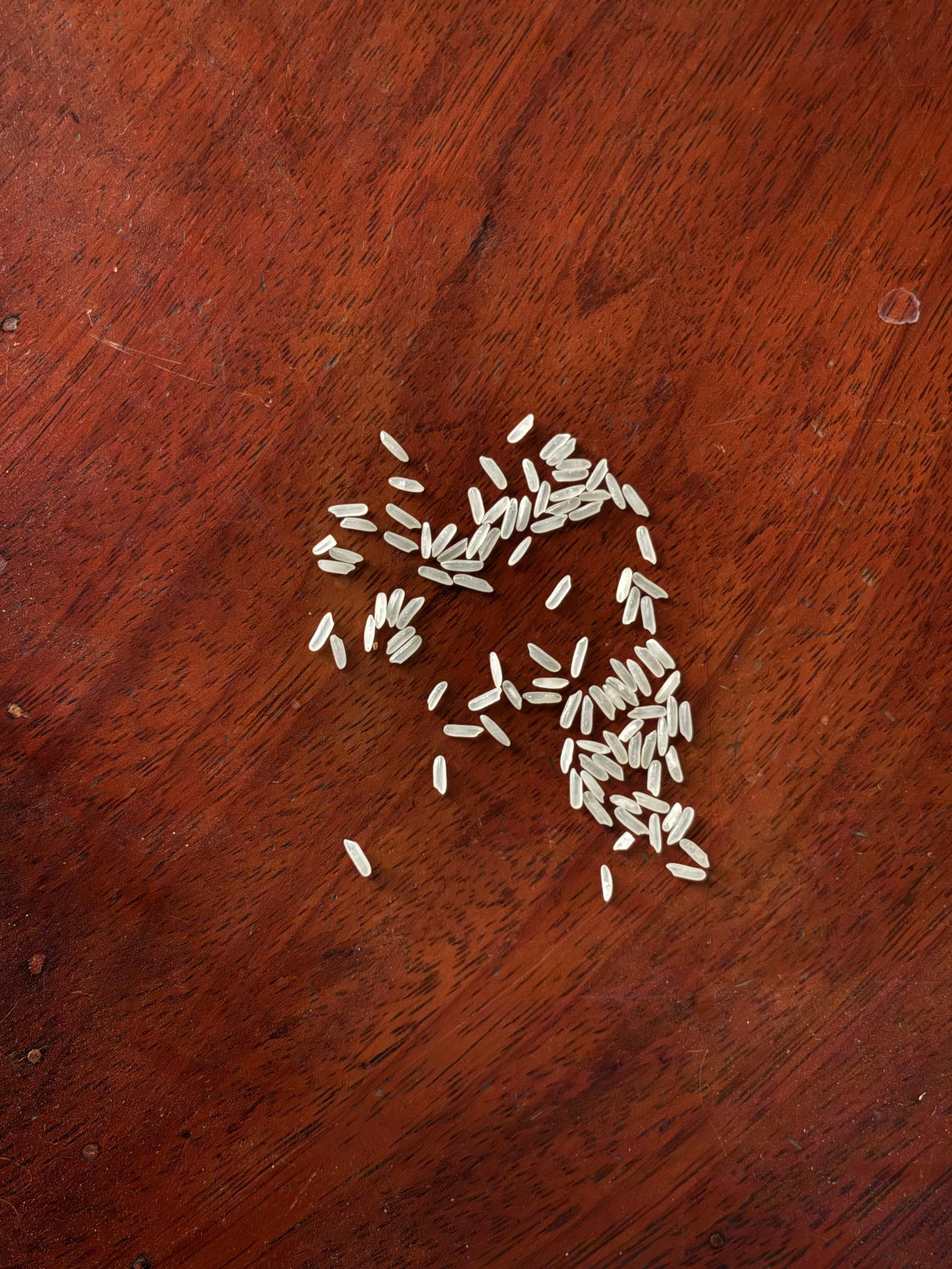Rice-th-y-nh: (344, 839, 371, 876), (527, 643, 561, 672), (583, 792, 612, 826), (480, 715, 510, 746), (309, 614, 334, 651), (668, 810, 694, 845), (633, 573, 668, 599), (590, 685, 616, 720), (635, 646, 664, 677), (607, 677, 638, 706), (396, 597, 424, 629), (480, 457, 508, 489), (610, 659, 637, 692), (680, 839, 710, 868), (628, 659, 652, 695), (546, 576, 572, 609), (389, 637, 422, 663), (603, 730, 628, 764), (466, 524, 490, 559), (381, 431, 408, 462), (655, 672, 681, 704), (615, 808, 647, 834), (592, 754, 624, 780), (431, 524, 456, 557), (624, 483, 649, 516), (560, 691, 582, 728), (386, 627, 415, 655), (648, 639, 675, 669), (386, 504, 419, 528), (547, 439, 577, 465), (468, 688, 501, 711), (633, 792, 669, 813), (579, 755, 608, 781), (540, 433, 570, 458), (532, 481, 552, 518), (454, 574, 495, 592), (483, 497, 510, 524), (508, 415, 534, 443), (639, 731, 658, 769), (622, 587, 641, 625), (636, 527, 656, 563), (500, 498, 518, 538), (586, 459, 608, 491), (479, 528, 500, 561), (438, 539, 468, 562), (581, 771, 604, 801), (606, 474, 626, 508), (571, 638, 588, 677), (610, 794, 641, 815), (668, 863, 706, 880), (509, 537, 532, 565), (385, 532, 417, 552), (665, 747, 683, 782), (387, 589, 404, 626), (419, 566, 452, 585), (655, 718, 671, 756), (432, 756, 448, 794), (546, 498, 581, 515), (531, 516, 566, 533), (516, 497, 533, 531), (603, 685, 626, 710), (468, 488, 484, 523), (550, 486, 585, 502), (503, 680, 522, 709), (329, 503, 368, 517), (570, 503, 602, 520), (616, 568, 632, 602), (627, 734, 643, 768), (641, 597, 656, 633), (442, 559, 483, 572), (428, 682, 447, 710), (663, 803, 682, 831), (648, 814, 662, 852), (580, 696, 594, 734), (569, 770, 583, 808), (619, 719, 643, 741), (330, 547, 363, 563), (330, 635, 346, 668), (389, 477, 424, 492), (373, 593, 388, 628), (628, 705, 665, 719), (444, 724, 483, 737), (341, 518, 377, 532), (489, 652, 503, 688), (523, 460, 539, 491), (647, 761, 661, 796), (319, 560, 355, 573), (560, 739, 574, 772), (680, 702, 692, 740), (577, 740, 610, 753), (667, 697, 678, 736), (556, 458, 591, 470), (600, 865, 612, 900), (363, 616, 375, 651), (523, 692, 561, 703), (313, 536, 336, 554), (613, 832, 635, 850), (553, 470, 589, 481), (421, 523, 432, 557), (580, 490, 610, 502), (533, 678, 568, 688)
